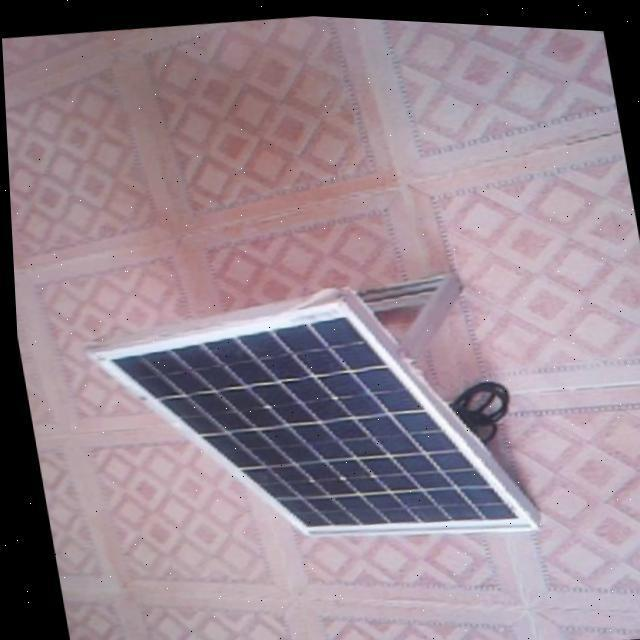Normal Solar Panel: (79, 269, 535, 574)
